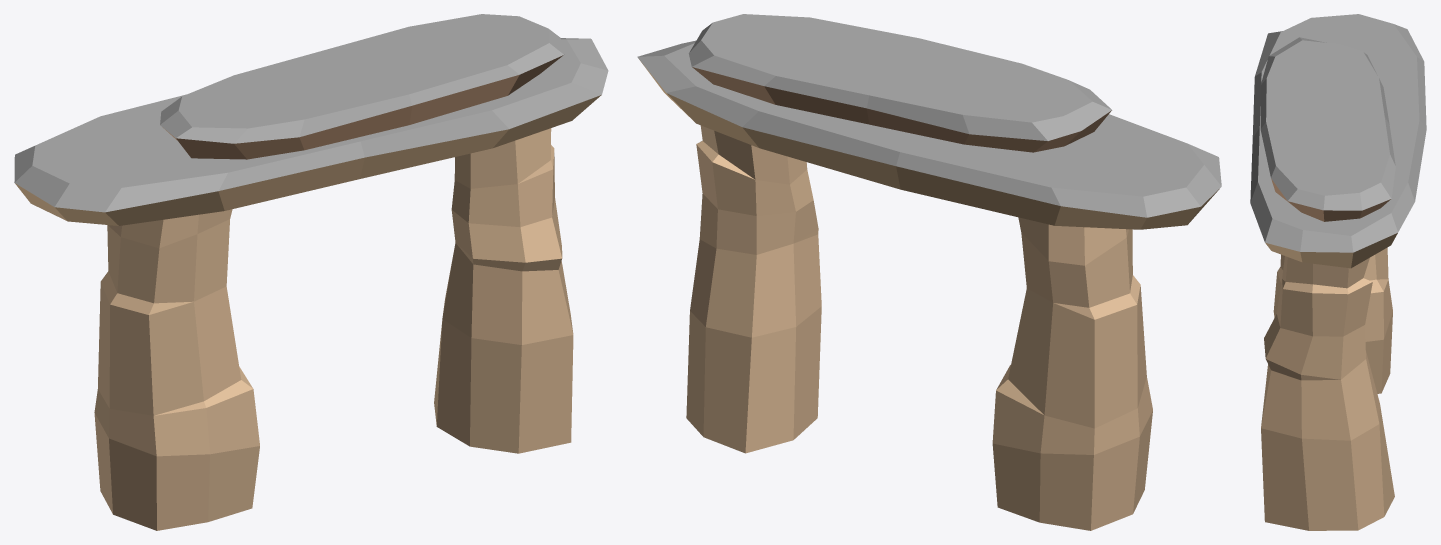
File: Rock_Arch_01.fbx
3 renders of one model, left to right at view 1: azimuth 30°, elevation 25°; view 2: azimuth 150°, elevation 25°; view 3: azimuth 270°, elevation 25°, orthographic. The views are drawn at different scales.
Visible parts, largest first — view 1: Rock_Arch_01; view 2: Rock_Arch_01; view 3: Rock_Arch_01.
Boxes of the visible parts, <box> form: Rock_Arch_01: <box>14,14,608,530</box>; Rock_Arch_01: <box>637,14,1221,530</box>; Rock_Arch_01: <box>1250,14,1426,530</box>.
Size of the model in its own units: 701 by 454 by 218.
